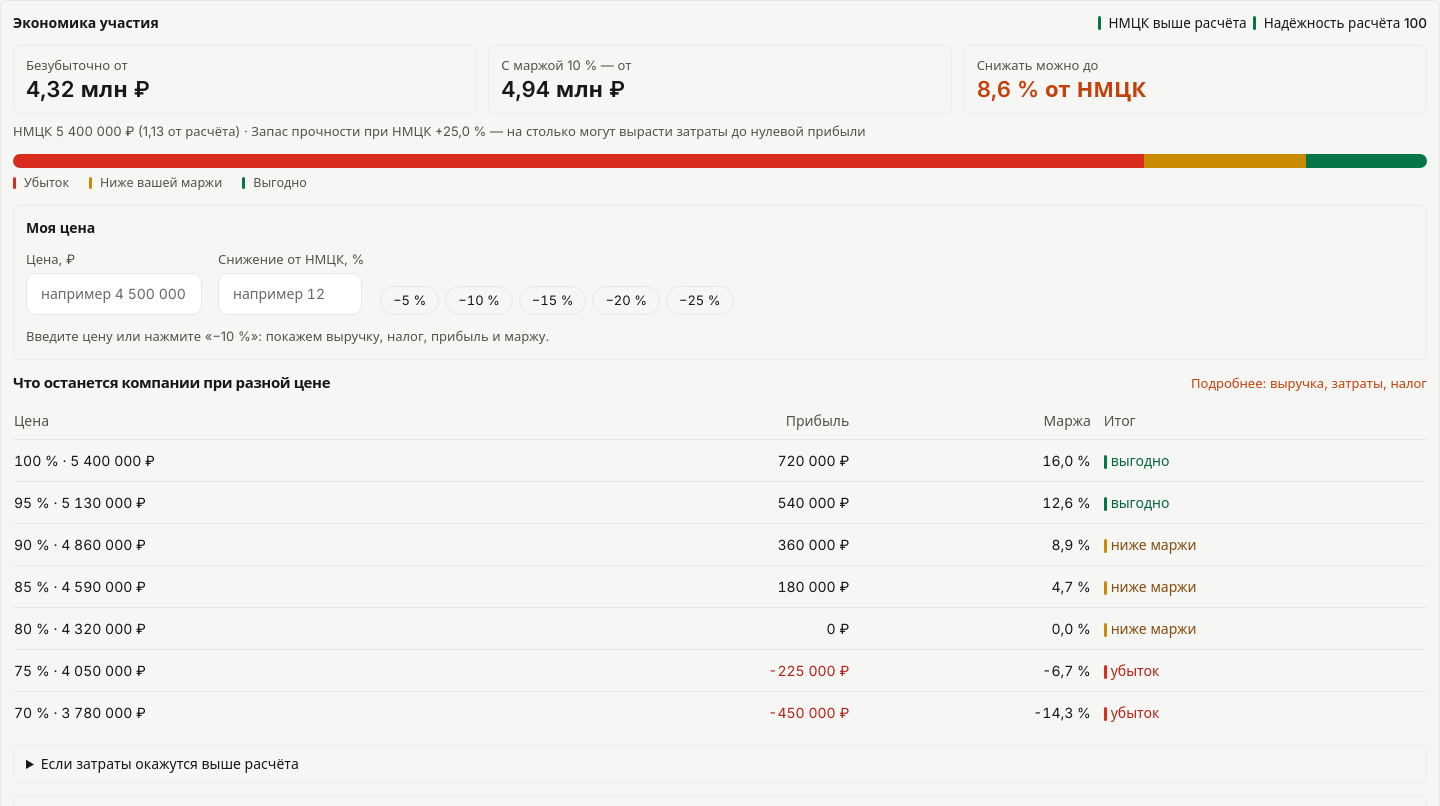
Test case: «Моя цена» › ввод цены в рублях обновляет проценты, и числа меняются при каждом вводе
The width and height of the screenshot is (1440, 806).
Type "4 860 000" into the field named "Моя цена, ₽" at (114, 294), box top-left (26, 273), bottom-right (202, 315)
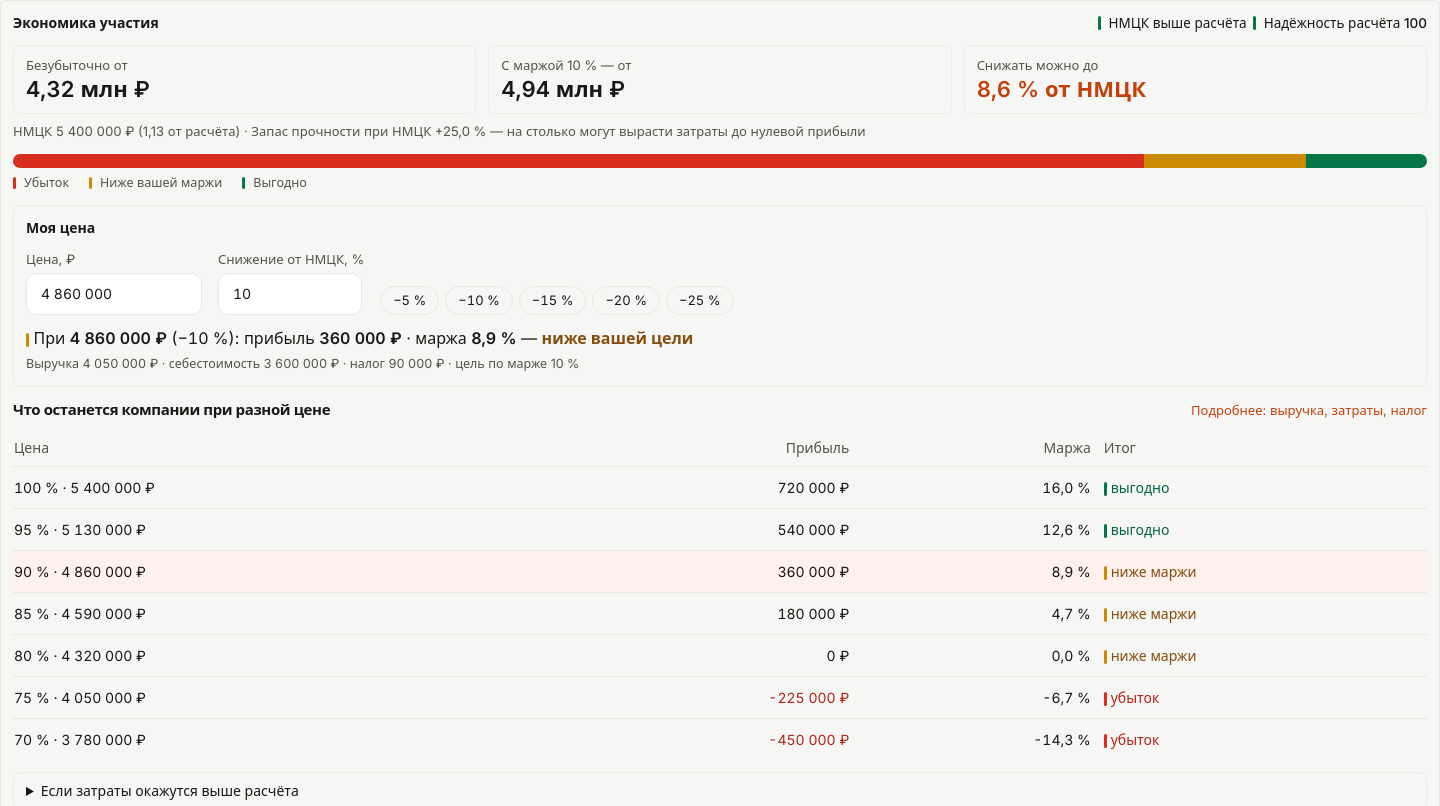
Expected: the field labelled "Снижение от НМЦК, %" holds "10", top-left (218, 273), bottom-right (362, 315)
Replace the text in the field named "Моя цена, ₽" with "5 130 000" at (114, 294), box top-left (26, 273), bottom-right (202, 315)
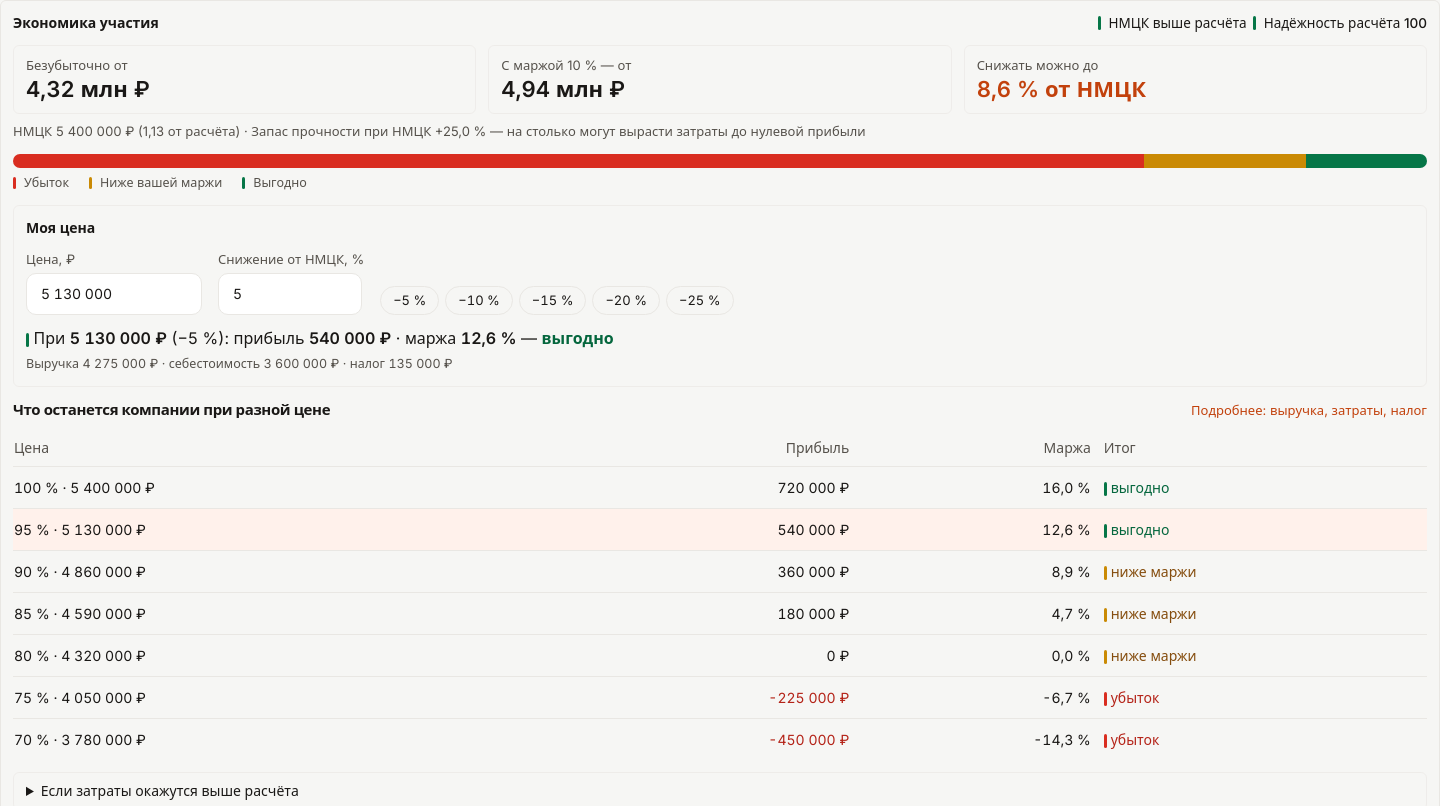
Expected: the field labelled "Снижение от НМЦК, %" holds "5", top-left (218, 273), bottom-right (362, 315)
